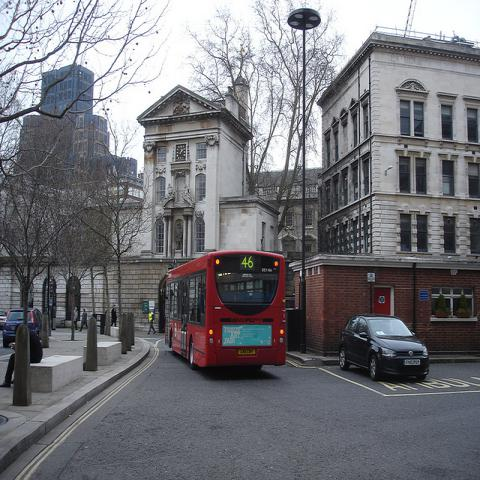bus: (160, 250, 286, 379)
car: (337, 312, 431, 382), (3, 307, 42, 349), (0, 311, 7, 329)
